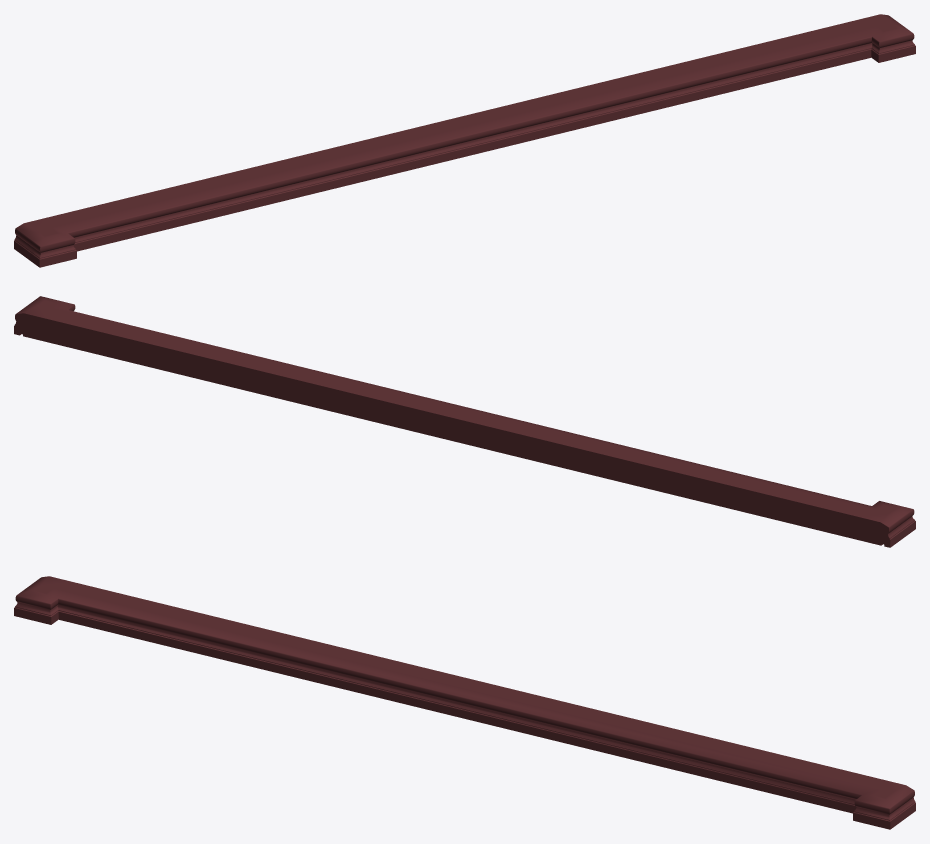
Rendered from cornice.glb.
The picture shows the model from 3 angles, top to bottom: view 1: azimuth 30°, elevation 25°; view 2: azimuth 150°, elevation 25°; view 3: azimuth 330°, elevation 25°; orthographic projection.
Visible parts, largest first — view 1: cor_cornice; view 2: cor_cornice; view 3: cor_cornice.
Boxes of the visible parts, left/top/right/bottom form: cor_cornice: left=14, top=14, right=915, bottom=267; cor_cornice: left=14, top=296, right=915, bottom=547; cor_cornice: left=14, top=576, right=915, bottom=829.
Bounding box in the file's own units: 5.89 × 0.15 × 0.3.
